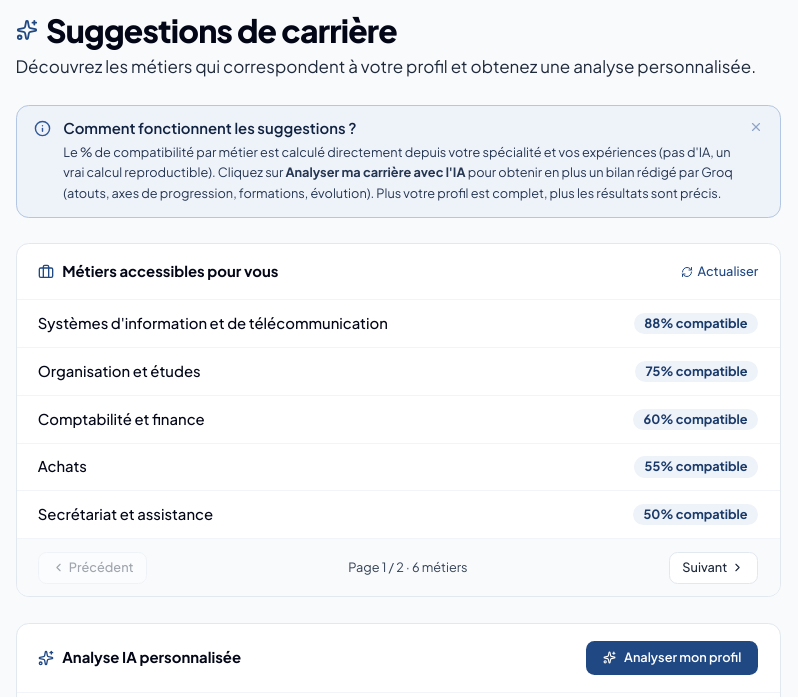
🚀 UI & Logique - Composant <SuggestionsCarriere /> › 🟢 HP2 : Pagination — navigation vers la page suivante
Expected: the text "Systèmes d'information et de télécommunication" is shown, [38,313,388,334]
Expected: the text "Page 1 / 2 · 6 métiers" is shown, [348,559,468,576]
Step 1. Click the button "Suivant" → point(713, 568), box [668,552,758,584]
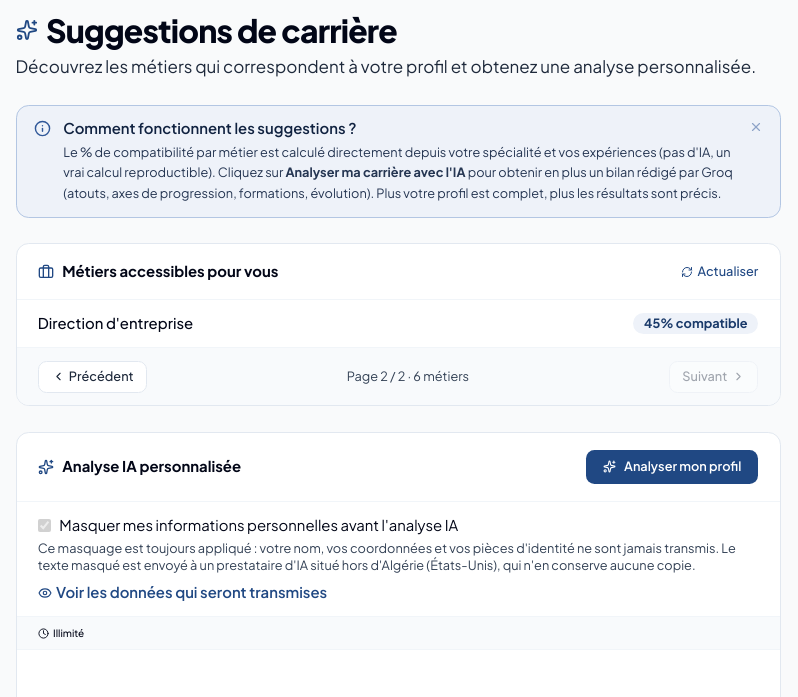
Now the text "Direction d'entreprise" is shown, box [38,313,193,334]
Now the text "Systèmes d'information et de télécommunication" is gone
Now the text "Page 2 / 2 · 6 métiers" is shown, box [347,368,469,385]
